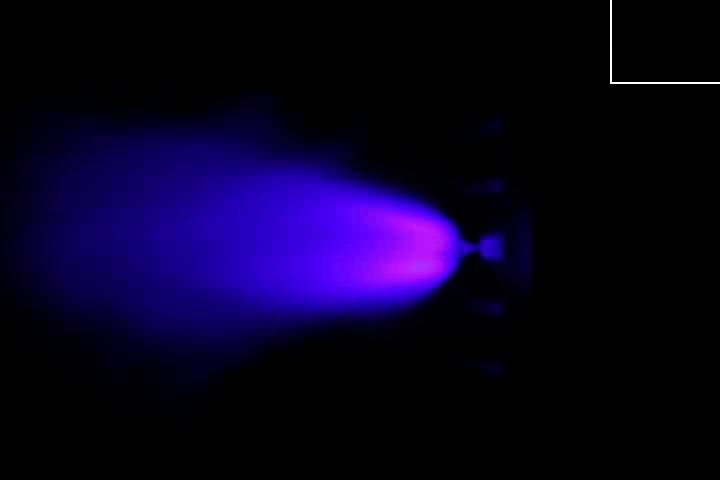burner cap: (481, 233, 509, 262)
unstable: (325, 175, 475, 312)
